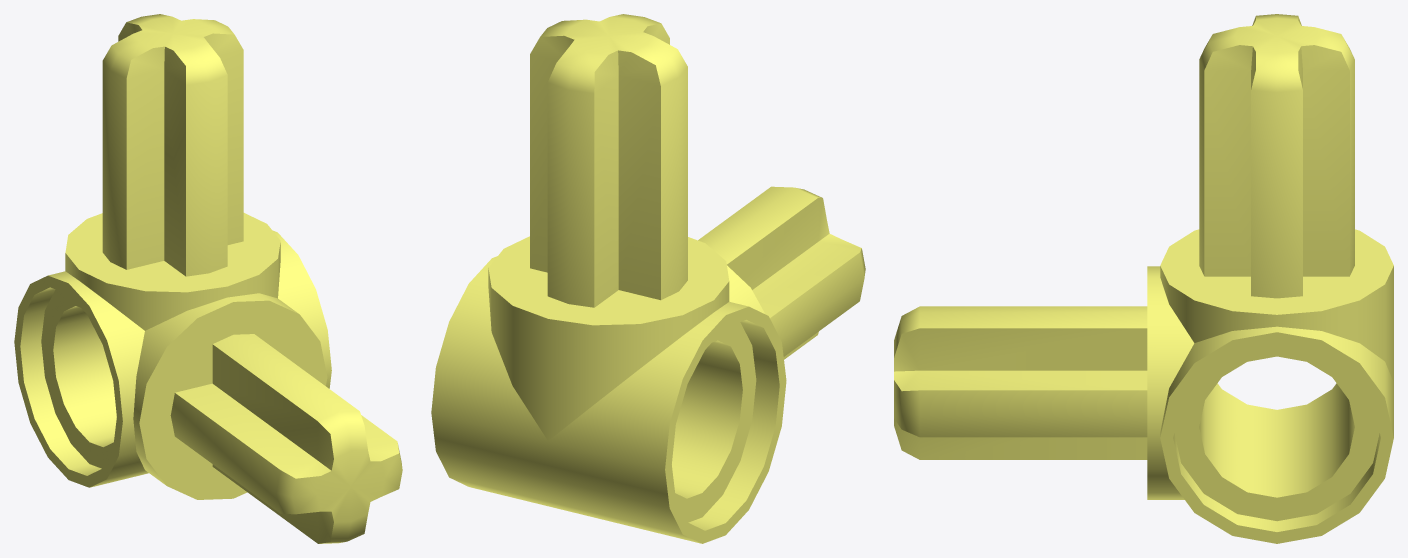
3 renders of one model, left to right at view 1: azimuth 30°, elevation 25°; view 2: azimuth 150°, elevation 25°; view 3: azimuth 270°, elevation 25°, orthographic. The views are drawn at different scales.
Visible parts, largest first — view 1: 10197.dat; view 2: 10197.dat; view 3: 10197.dat.
Part boxes in pixels (left/top/right/bottom): 10197.dat: left=14, top=14, right=402, bottom=543; 10197.dat: left=431, top=14, right=865, bottom=543; 10197.dat: left=894, top=14, right=1393, bottom=543.
Bounding box in the file's own units: 0.008 × 0.0154 × 0.0154.
